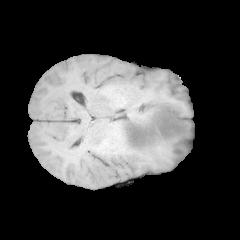glioma: (111, 102, 193, 161)
